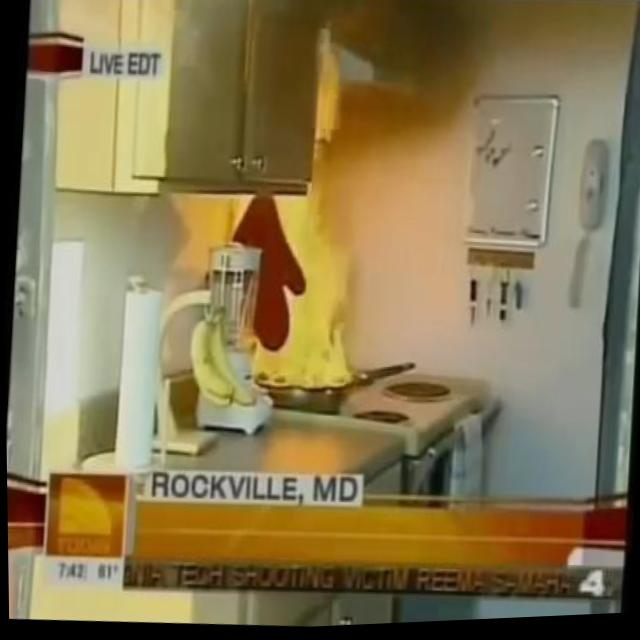fire: (218, 10, 383, 394)
